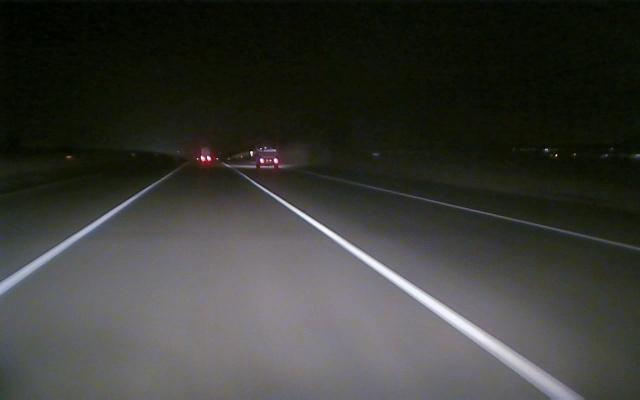lane: (256, 182, 583, 397), (2, 181, 159, 294), (379, 187, 640, 252)
